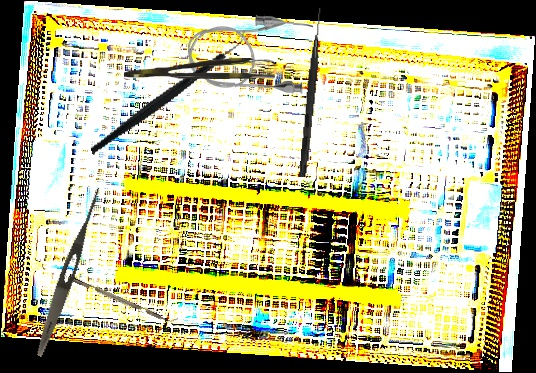Cannula: (186, 12, 314, 95)
Chopper: (70, 26, 266, 156), (67, 270, 179, 327)
Dressing Forceps: (32, 184, 105, 359)
Hook Surgical: (299, 7, 323, 178)
Tissue Forceps: (124, 58, 275, 79)
